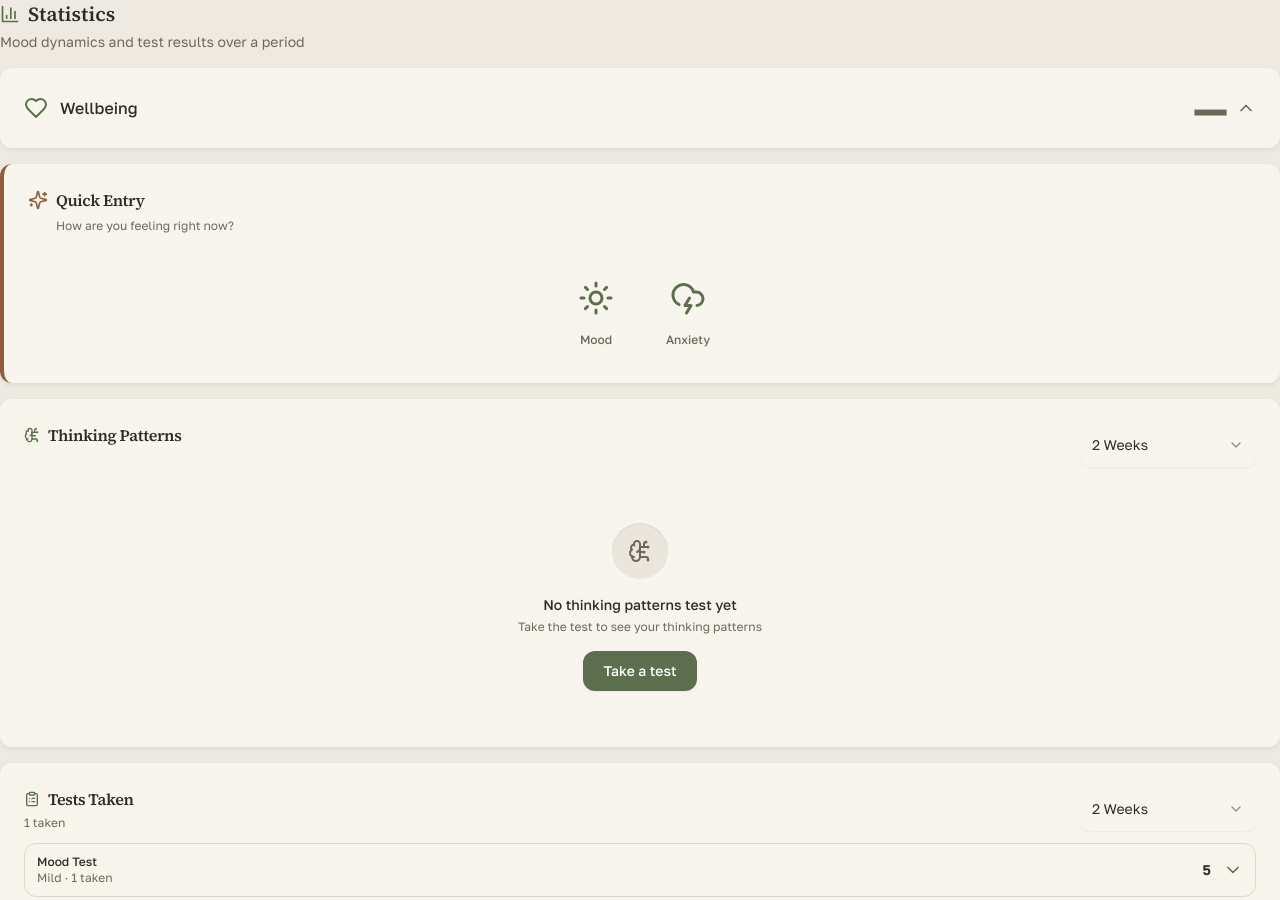
Statistics › filters test results by the selected period
Expected: the text "Mood Test" is shown, [37,854,97,869]
Expected: the text "1 taken" is shown, [24,815,65,830]
Click the dropdown labelled "2 Weeks" in the row of "Tests Taken" at [1168, 809], box [1080,787,1256,831]
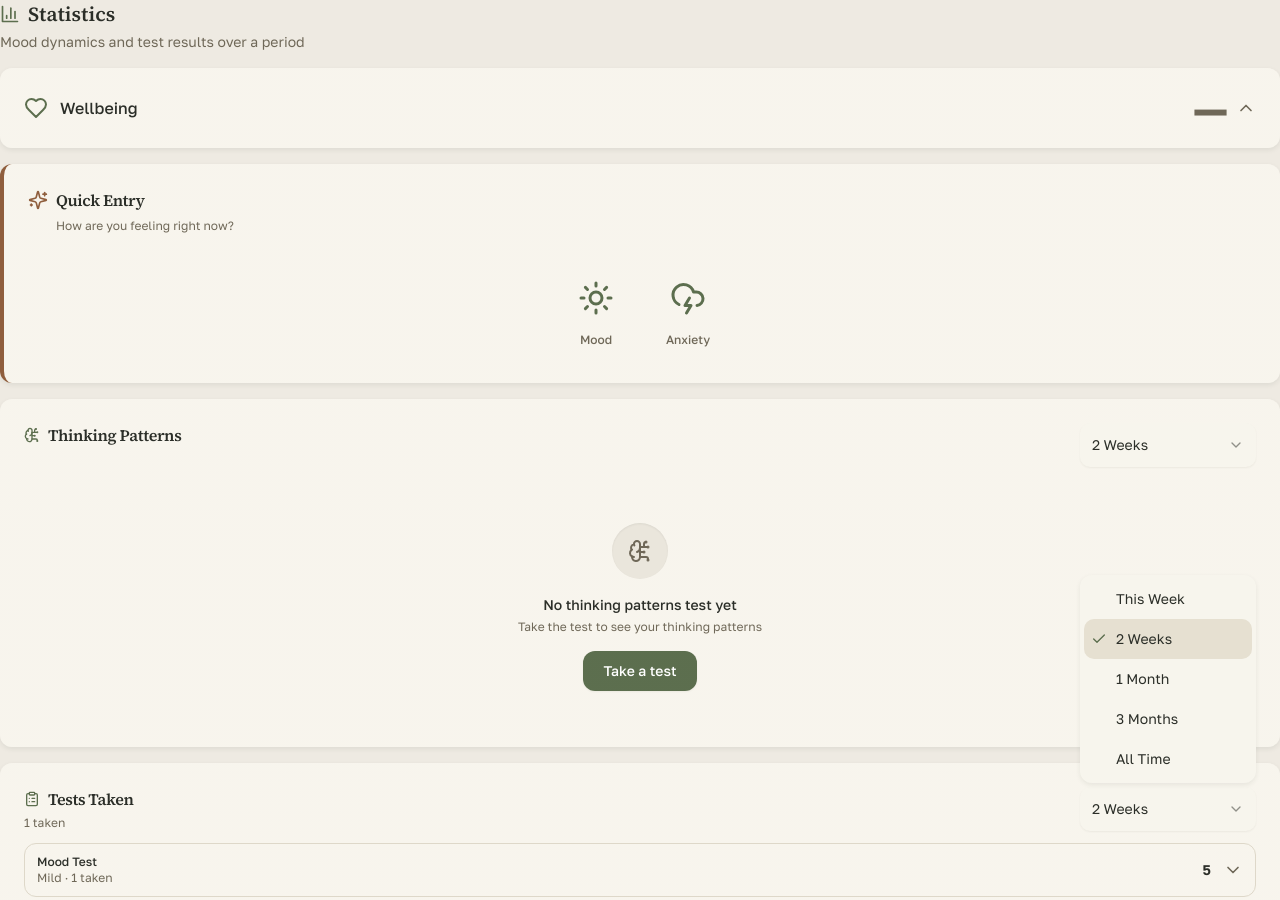
Click the option "1 Month" at [1143, 678], box [1116,670,1169,687]
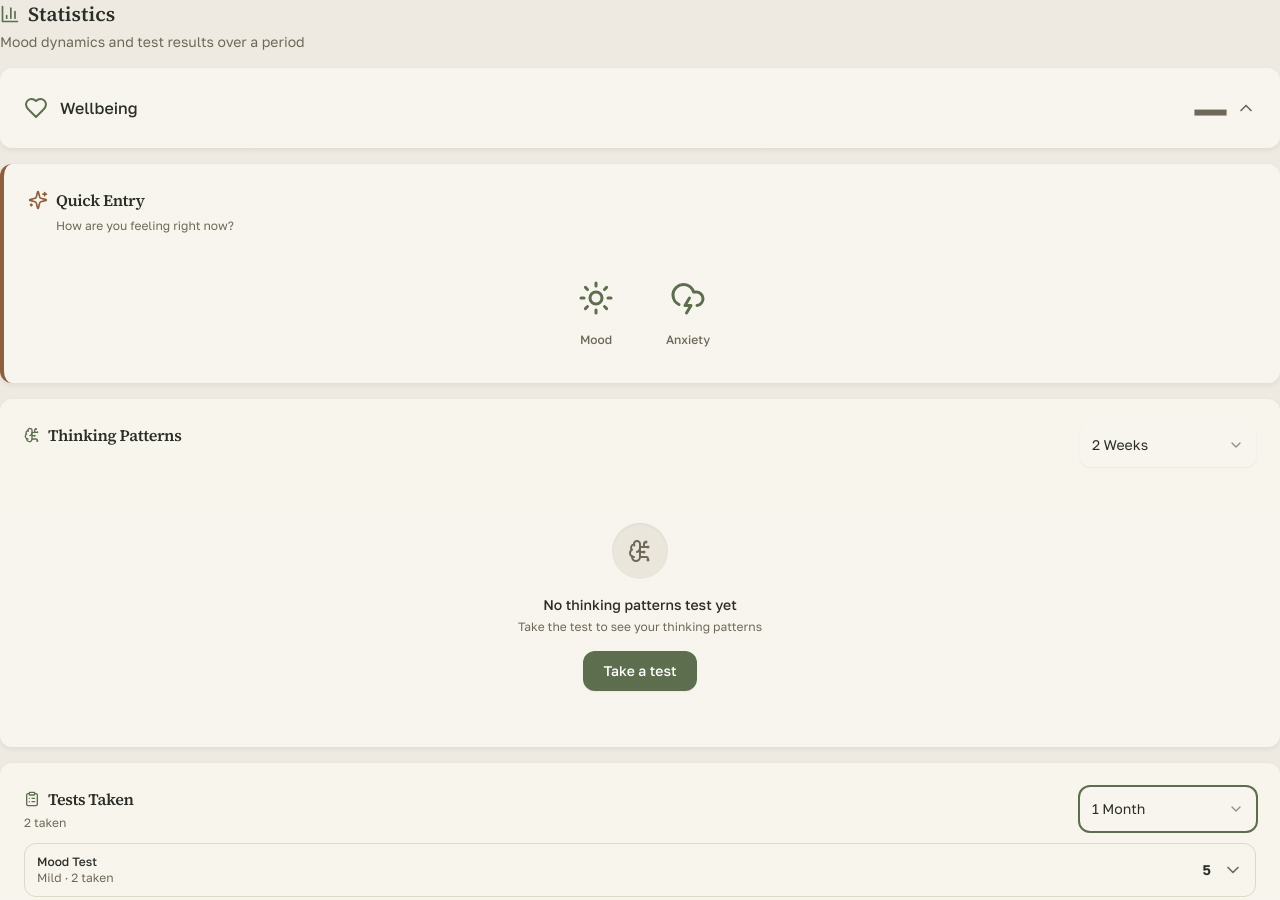
Now the text "2 taken" is shown, box [24,815,66,830]
Note: Expanding the test shows the older run's interpretation too
Click the text "Mood Test" at [67, 862], box [37,854,97,869]
(page scrolled)
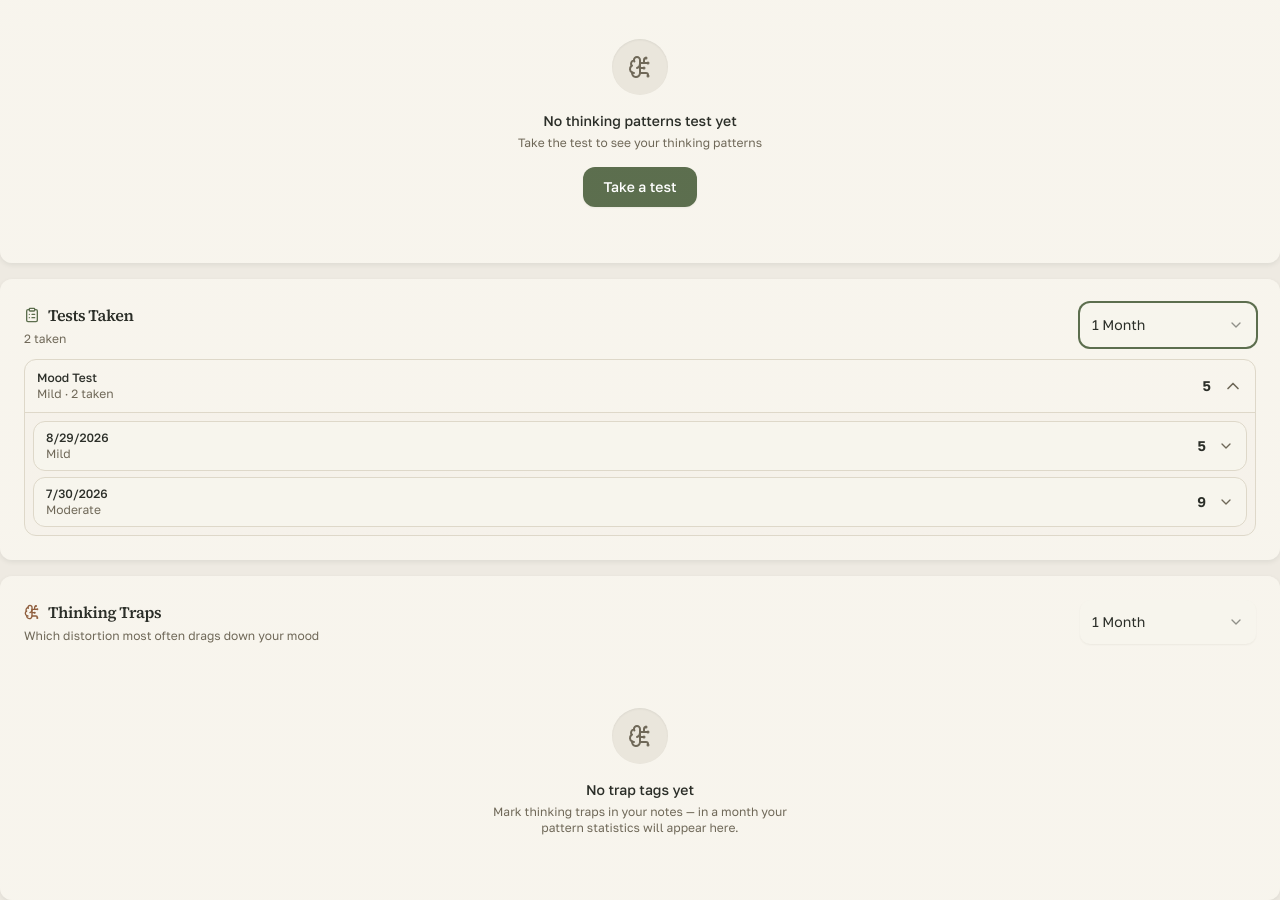
Now the text "Moderate" is shown, box [46,502,101,517]
